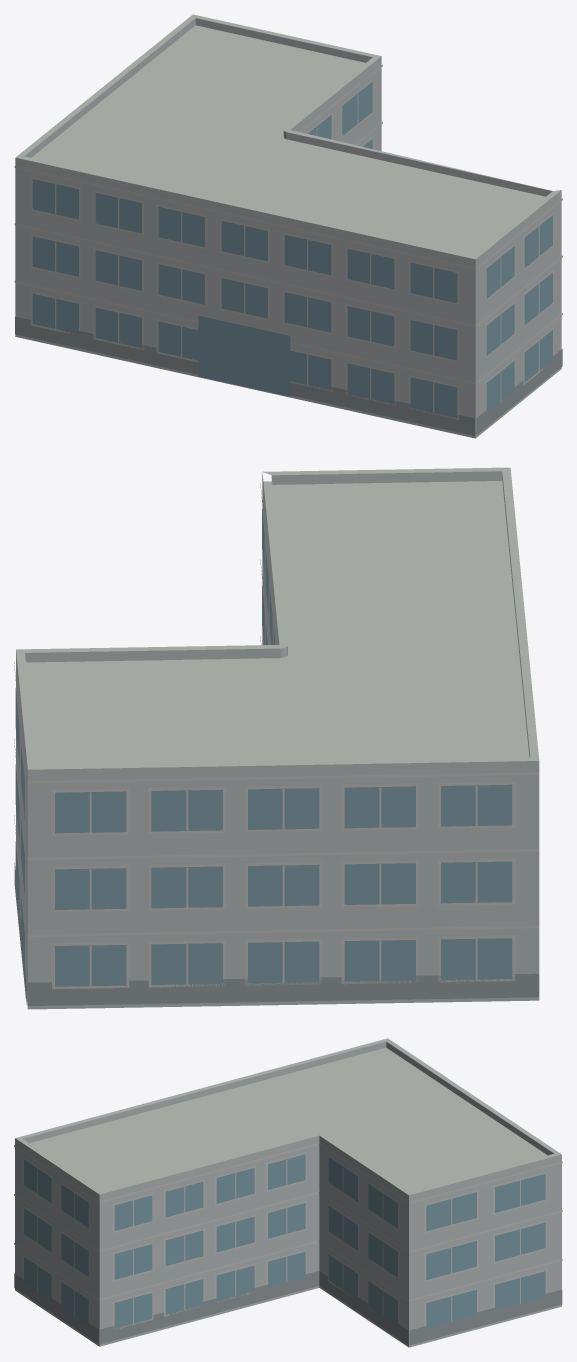
Rendered from public-a483c70d-fcd3-4a44-b0f6-c88ad2f90d28.glb.
3 views of the same model, one above another, from view 1: azimuth 30°, elevation 25°; view 2: azimuth 150°, elevation 25°; view 3: azimuth 270°, elevation 25° (orthographic). The views are drawn at different scales.
Visible parts, largest first — view 1: public-a483c70d-fcd3-4a44-b0f6-c88ad2f90d28; view 2: public-a483c70d-fcd3-4a44-b0f6-c88ad2f90d28; view 3: public-a483c70d-fcd3-4a44-b0f6-c88ad2f90d28.
Boxes of the visible parts, box(x1,y1,x2,y2) form: public-a483c70d-fcd3-4a44-b0f6-c88ad2f90d28: box(14, 14, 562, 438); public-a483c70d-fcd3-4a44-b0f6-c88ad2f90d28: box(14, 467, 539, 1009); public-a483c70d-fcd3-4a44-b0f6-c88ad2f90d28: box(14, 1038, 562, 1347).
Size of the model in its own units: 20.36 by 9.15 by 29.9.
